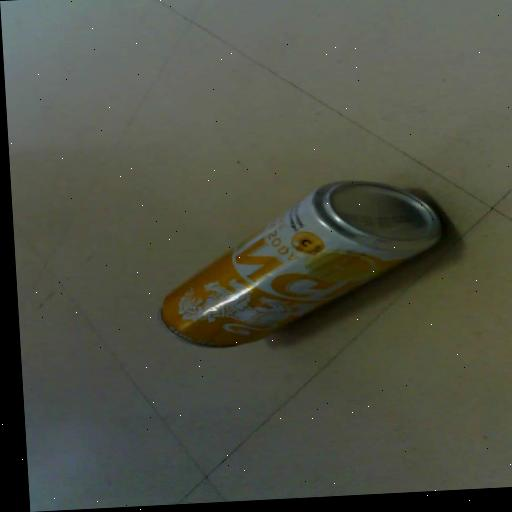canned: (131, 153, 467, 361)
